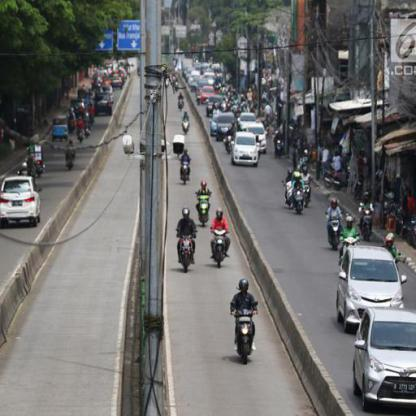car: (352, 307, 415, 413), (335, 244, 407, 326), (0, 175, 45, 224), (232, 129, 261, 168), (94, 91, 116, 116)
motorbike: (230, 307, 258, 364), (174, 232, 198, 274), (211, 226, 232, 270), (326, 213, 344, 247), (289, 183, 309, 212), (195, 190, 213, 222), (358, 206, 376, 238), (180, 158, 191, 182), (178, 116, 192, 132)
